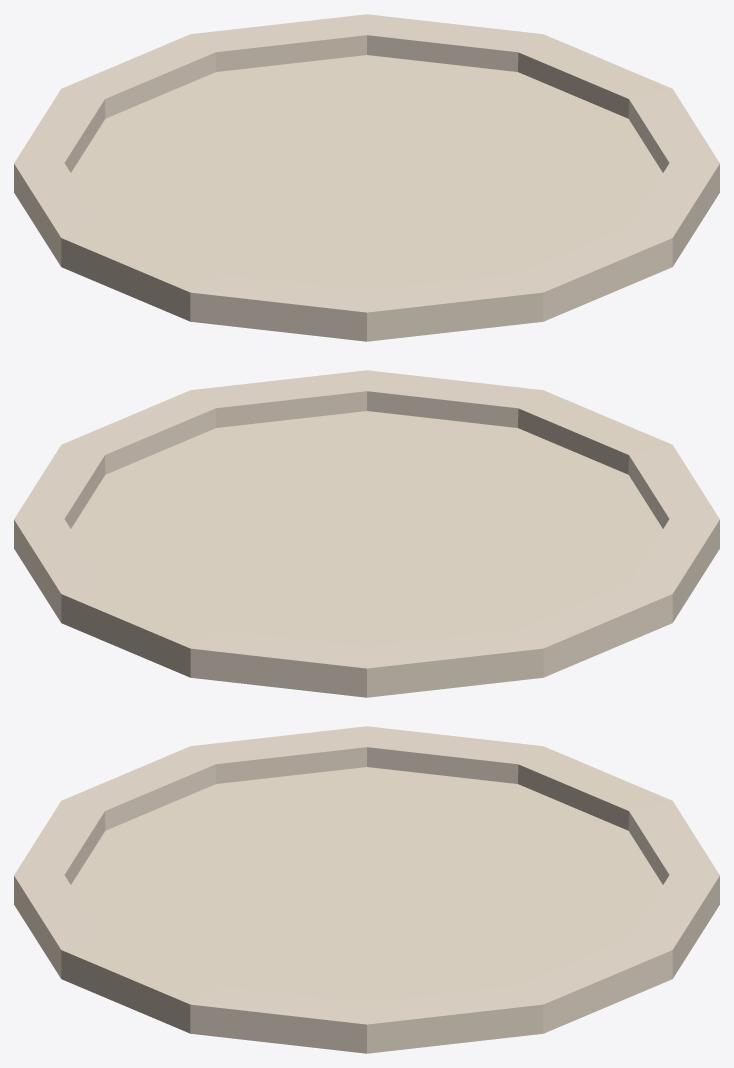
The model's file is Pizza Dough.fbx.
3 views of the same model, one above another, from view 1: azimuth 30°, elevation 25°; view 2: azimuth 150°, elevation 25°; view 3: azimuth 270°, elevation 25° (orthographic).
Parts seen in each view (by area): view 1: Circle; view 2: Circle; view 3: Circle.
Part boxes in pixels (<box>): Circle: <box>14,14,719,341</box>; Circle: <box>14,370,719,697</box>; Circle: <box>14,726,719,1053</box>.
Size of the model in its own units: 202 by 9.65 by 202.
